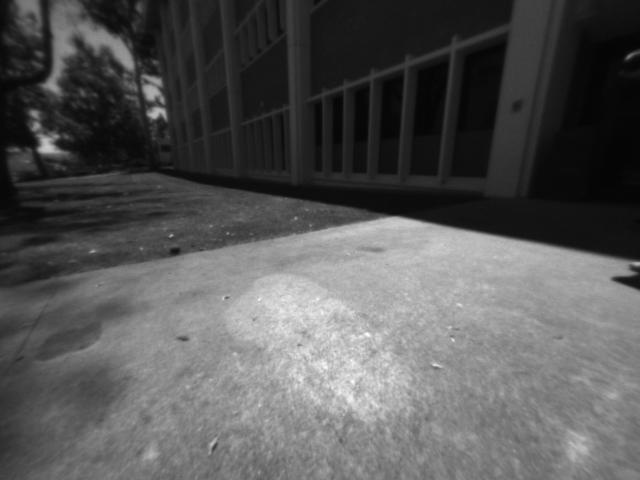dogtoy: (163, 235, 189, 260)
